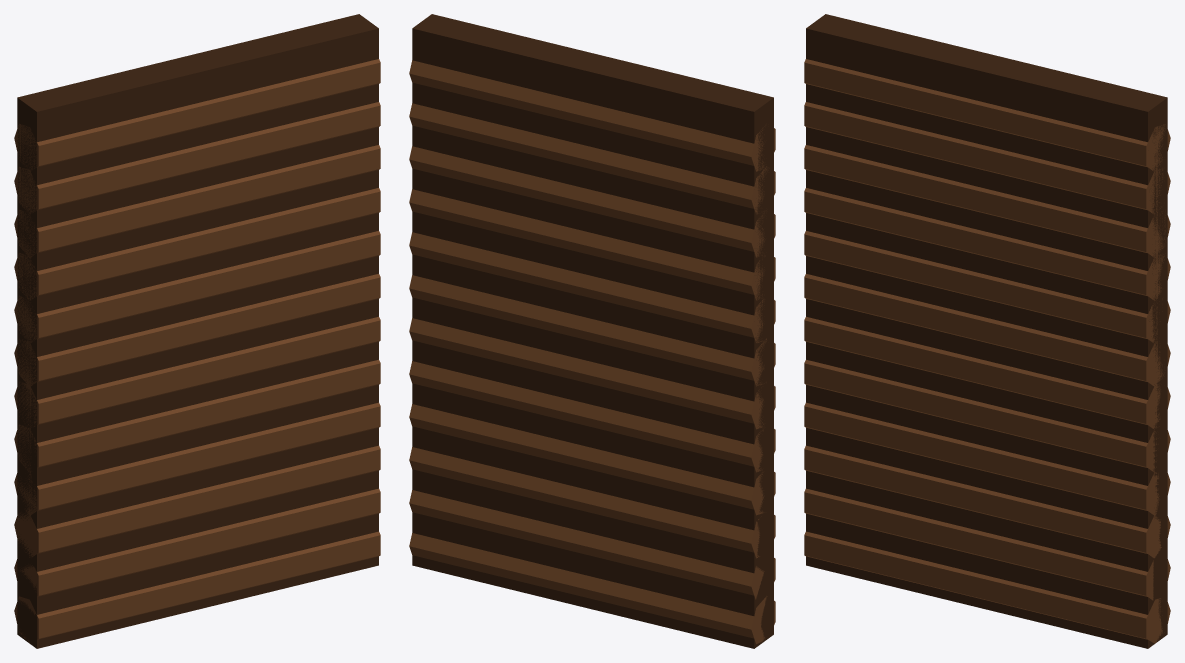
File: SM_Wall_Log.obj
3 renders of one model, left to right at view 1: azimuth 30°, elevation 25°; view 2: azimuth 150°, elevation 25°; view 3: azimuth 330°, elevation 25°, orthographic.
Visible parts, largest first — view 1: SM_Wall_Log; view 2: SM_Wall_Log; view 3: SM_Wall_Log.
Boxes of the visible parts, bbox=[...] form: SM_Wall_Log: bbox=[14, 14, 380, 648]; SM_Wall_Log: bbox=[409, 14, 775, 648]; SM_Wall_Log: bbox=[804, 14, 1170, 648].
Bounding box in the file's own units: 2 × 3 × 0.2471.
